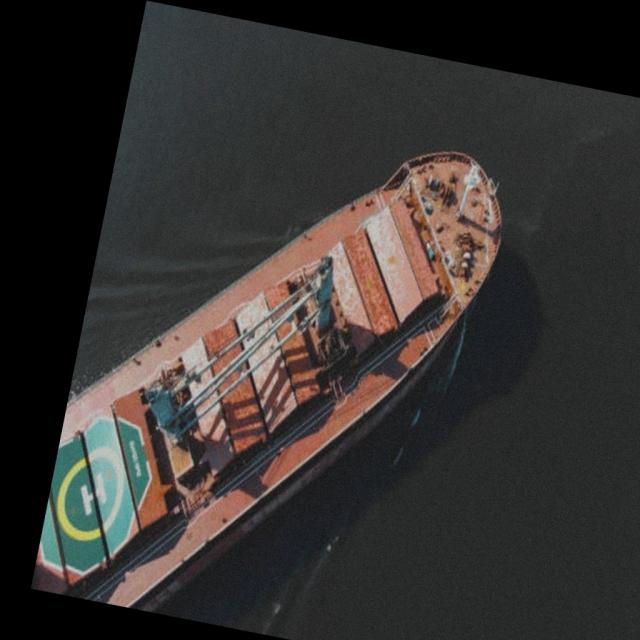helipad: (52, 449, 127, 543)
